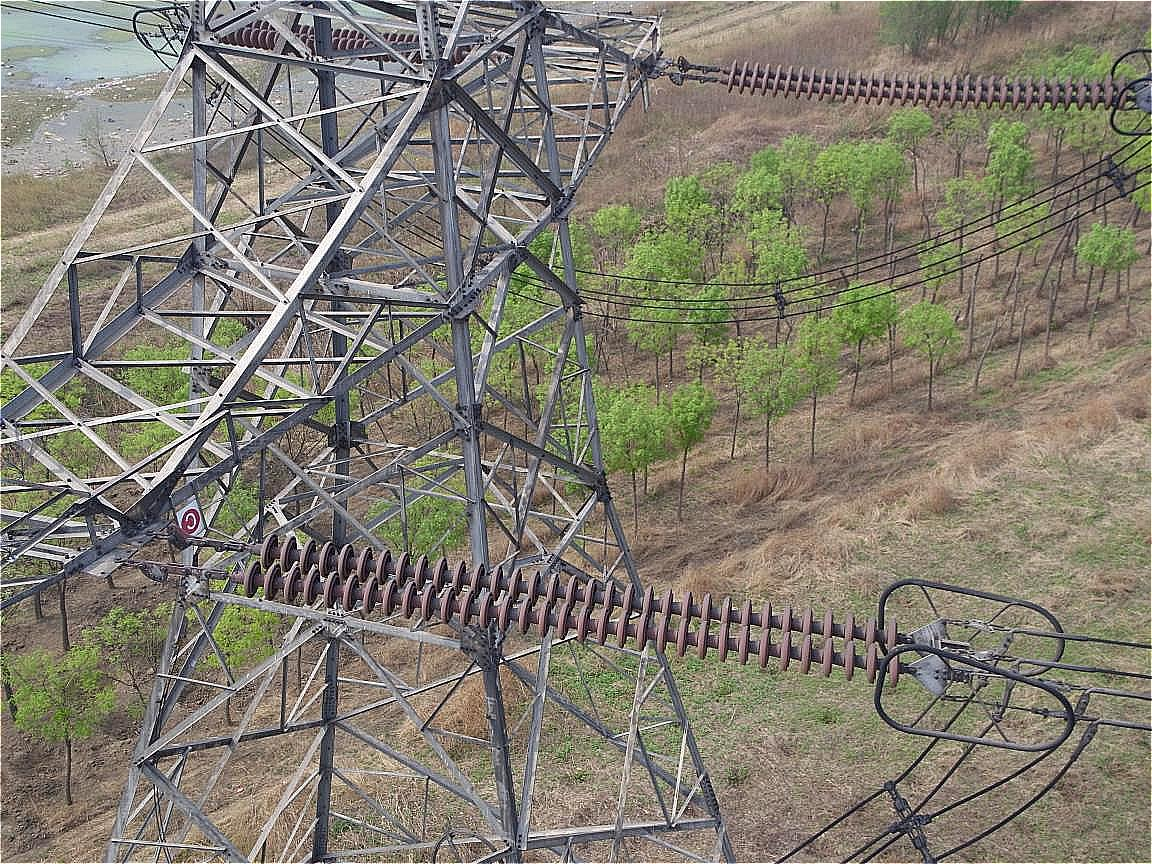insultor1: (216, 520, 912, 702), (720, 48, 1143, 123)
